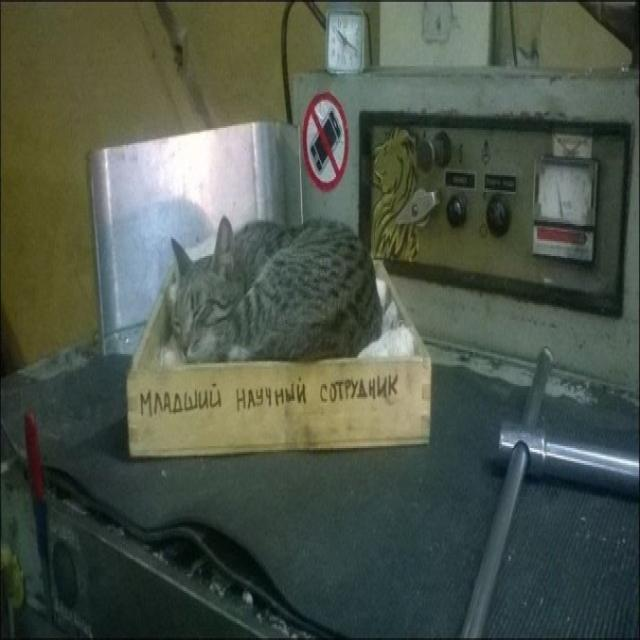Cats: (170, 215, 382, 362)
